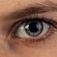eye: (25, 21, 43, 37)
